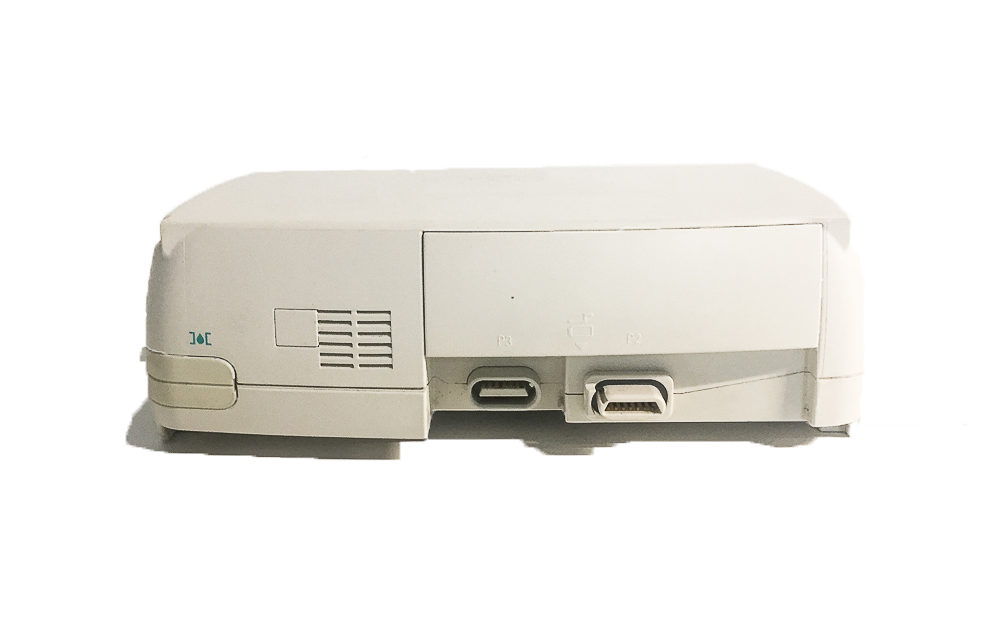BBraun Infusomat Space: (136, 162, 874, 472)
